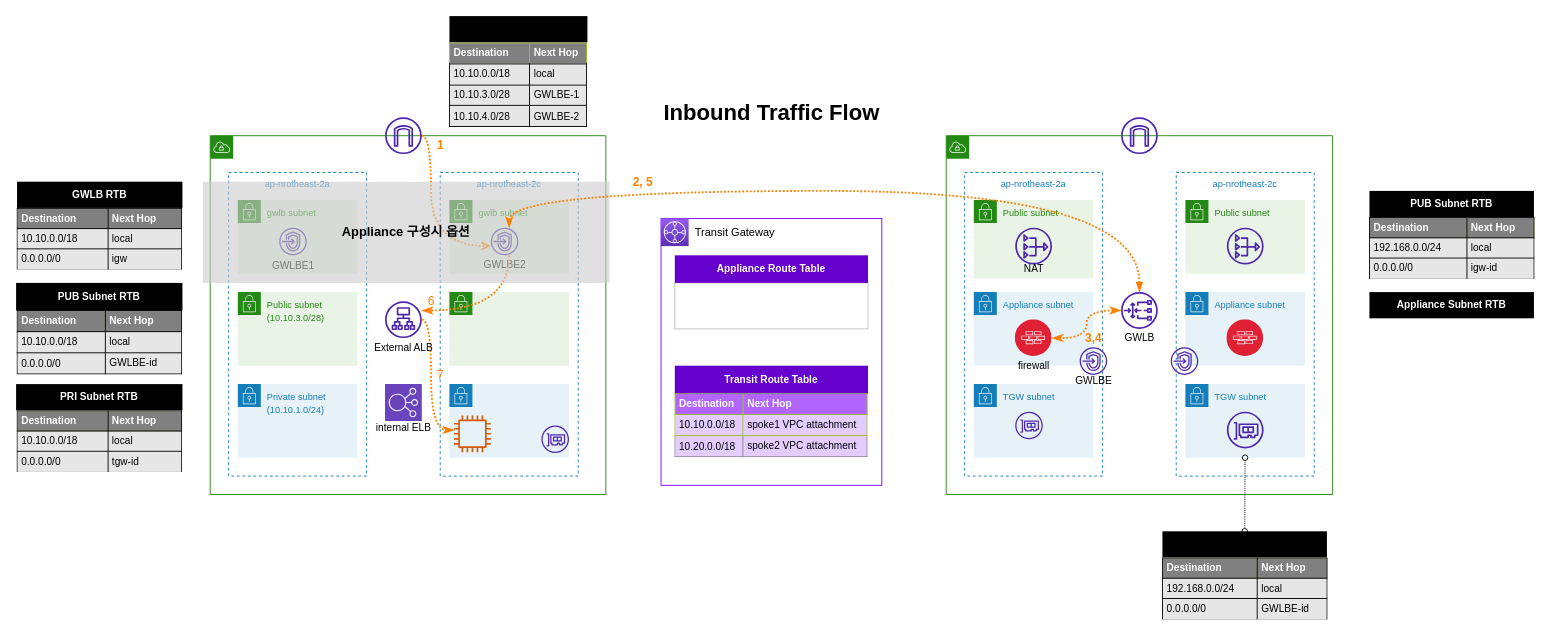
Some shapes in this 1550 by 634 pixel diagram are drawn without their labels. The shapes that lost their labels are listed below. From the top down, each one's box as (x1, y1, x2, y2) in pixels, then its label:
(449, 16, 587, 42): IGW Route Table
(209, 135, 606, 494): Dev VPC ( 10.10.0.0/18 )
(674, 282, 868, 329): Destination Next Hop 0.0.0.0/0 security VPC attachment
(945, 135, 1333, 494): Appliance VPC(192.168.0.0/24 )
(448, 291, 569, 366): Public subnet (10.10.4.0/28)
(1369, 318, 1535, 419): Destination Next Hop 192.168.0.0/24 local 10.10.0.0/16 tgw-id 0.0.0.0/0 nat-id
(448, 383, 569, 458): Private subnet (10.10.2.0/24 )
(1162, 531, 1326, 557): TGW Subnet Route Table
